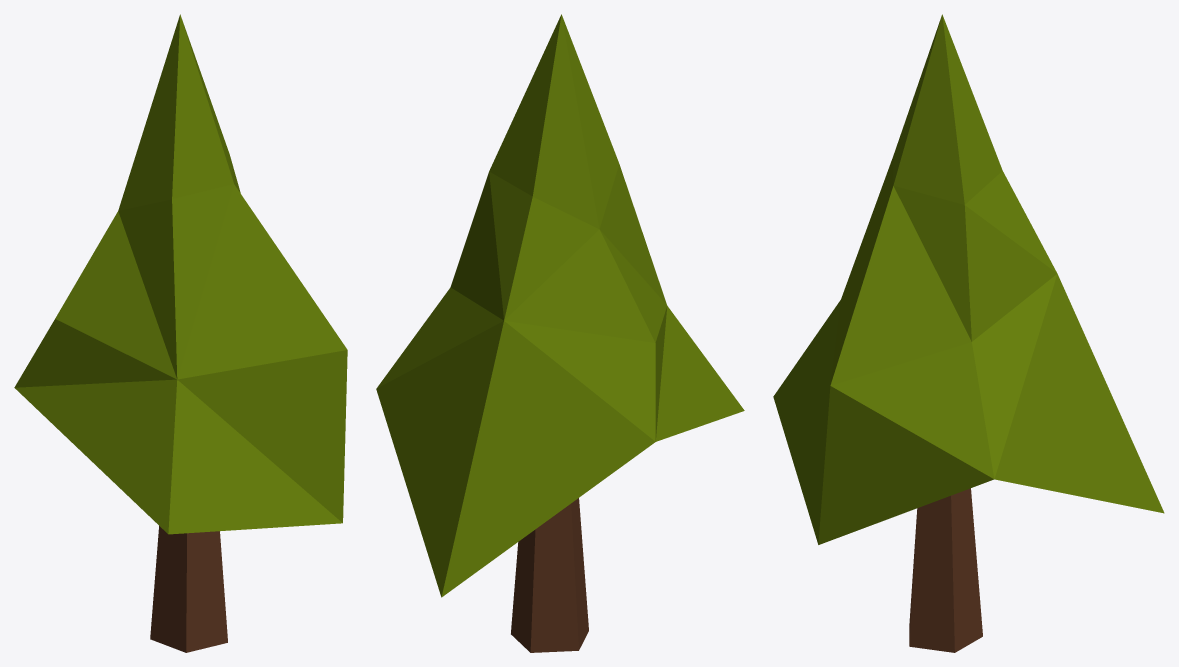
Rendered from HempB.fbx.
The picture shows the model from 3 angles, left to right: view 1: azimuth 30°, elevation 25°; view 2: azimuth 150°, elevation 25°; view 3: azimuth 270°, elevation 25°; orthographic projection.
Visible parts, largest first — view 1: HempB; view 2: HempB; view 3: HempB.
Part boxes in pixels (<box>): HempB: <box>14,14,347,652</box>; HempB: <box>376,14,744,652</box>; HempB: <box>773,14,1164,652</box>.
Bounding box in the file's own units: 24.66 × 51.02 × 29.3.
